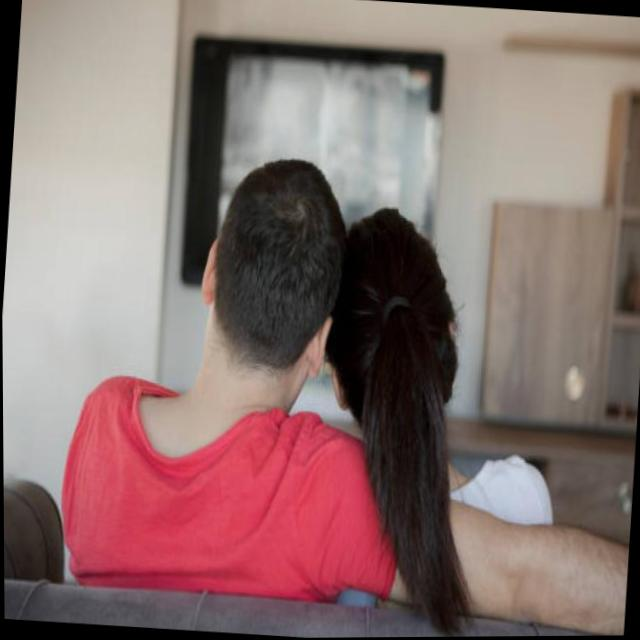no helmet: (299, 181, 507, 634), (180, 124, 352, 446)
